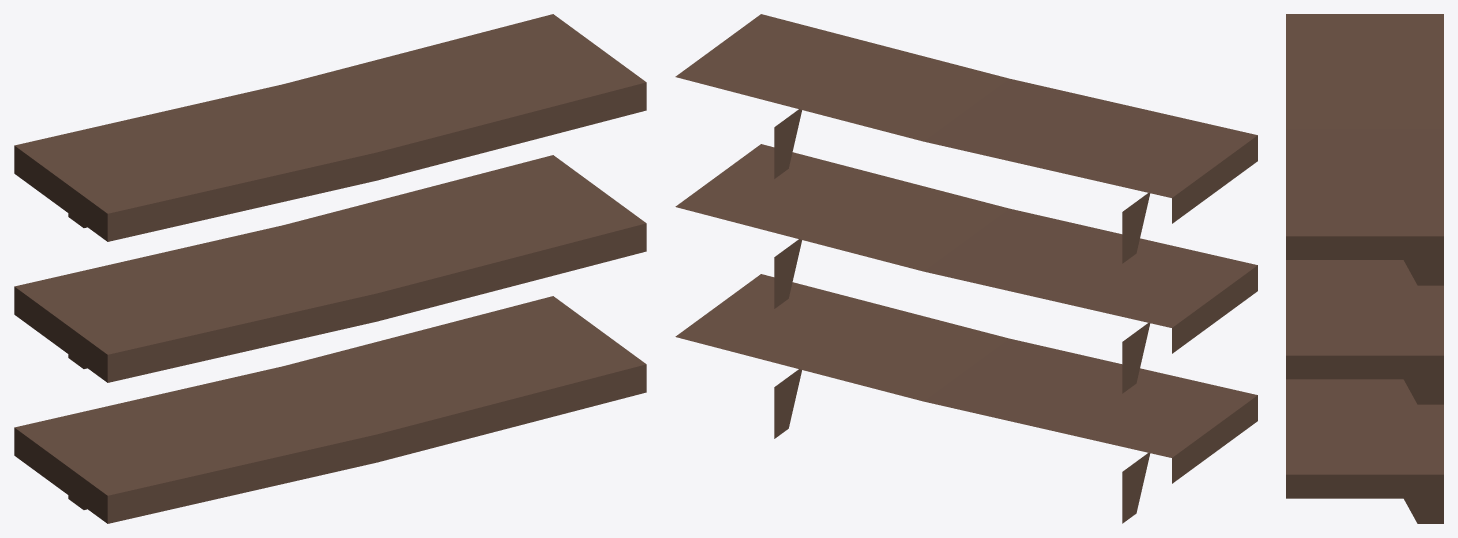
3 renders of one model, left to right at view 1: azimuth 30°, elevation 25°; view 2: azimuth 150°, elevation 25°; view 3: azimuth 270°, elevation 25°, orthographic. The views are drawn at different scales.
Visible parts, largest first — view 1: shelves; view 2: shelves; view 3: shelves.
Boxes of the visible parts, x1,y1,x2,y2 form: shelves: [14, 14, 646, 523]; shelves: [675, 14, 1257, 523]; shelves: [1286, 14, 1443, 523].
Bounding box in the file's own units: 2 × 1.3 × 0.6.
Materials: 1 (1 with a texture image).
